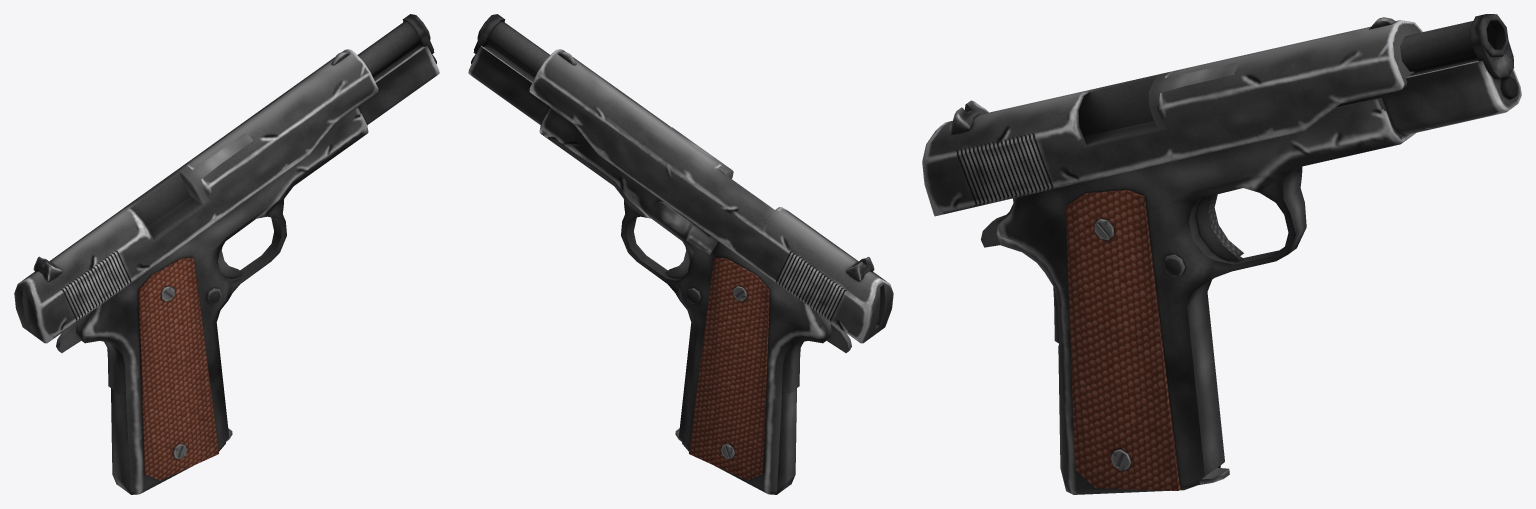
Rendered from pistol2_000010.obj.
The picture shows the model from 3 angles, left to right: view 1: azimuth 30°, elevation 25°; view 2: azimuth 150°, elevation 25°; view 3: azimuth 330°, elevation 25°; orthographic projection. The views are drawn at different scales.
Parts seen in each view (by area): view 1: M1911_Body_Cube.000, M1911_Slider_Cube.002; view 2: M1911_Body_Cube.000, M1911_Slider_Cube.002; view 3: M1911_Body_Cube.000, M1911_Slider_Cube.002, M1911_Trigger_Cube.004.
Part boxes in pixels (x1=…): M1911_Body_Cube.000: x1=56, y1=14, x2=439, y2=494; M1911_Slider_Cube.002: x1=14, y1=49, x2=378, y2=343; M1911_Body_Cube.000: x1=468, y1=14, x2=851, y2=494; M1911_Slider_Cube.002: x1=529, y1=49, x2=893, y2=343; M1911_Body_Cube.000: x1=981, y1=14, x2=1521, y2=494; M1911_Slider_Cube.002: x1=922, y1=17, x2=1422, y2=216; M1911_Trigger_Cube.004: x1=1195, y1=194, x2=1243, y2=261.
Bounding box in the file's own units: 0.6772 × 0.6374 × 0.0783.
